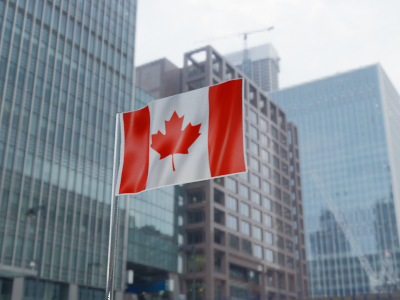Canada flag: (116, 78, 243, 195)
